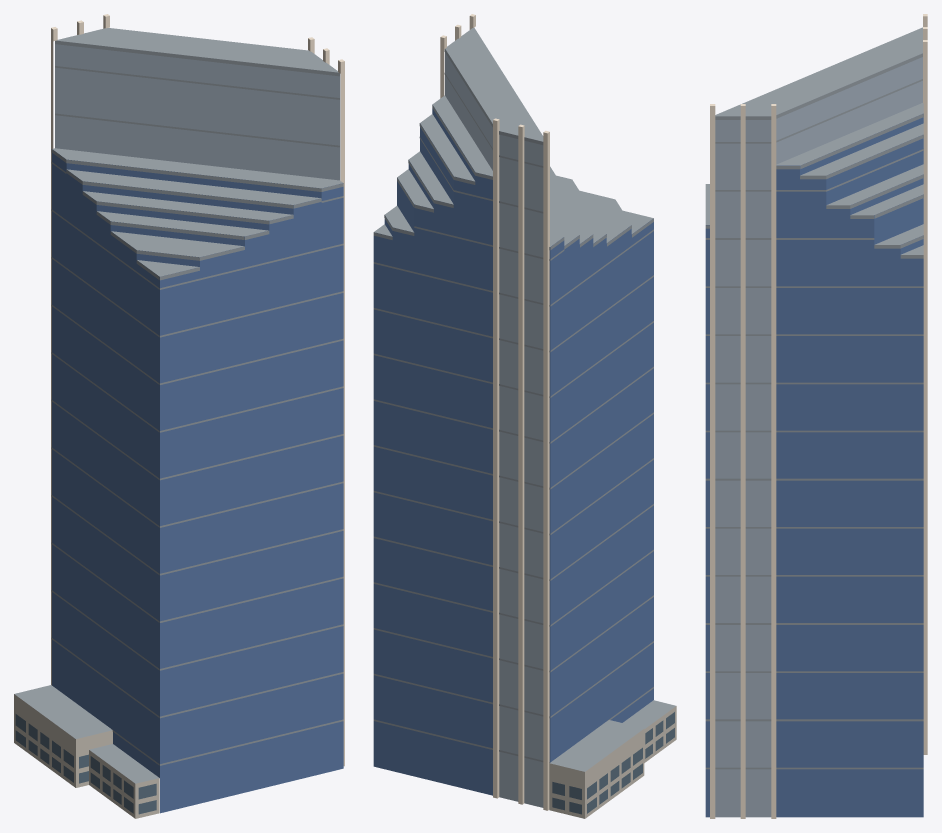
File: msp-campbell-mithun-tower.glb
The picture shows the model from 3 angles, left to right: view 1: azimuth 30°, elevation 25°; view 2: azimuth 150°, elevation 25°; view 3: azimuth 270°, elevation 25°; orthographic projection. The views are drawn at different scales.
Parts seen in each view (by area): view 1: Two22 (Campbell Mithun Tower); view 2: Two22 (Campbell Mithun Tower); view 3: Two22 (Campbell Mithun Tower).
Part boxes in pixels (x1,y1,x2,y2): Two22 (Campbell Mithun Tower): [14, 14, 344, 818]; Two22 (Campbell Mithun Tower): [373, 14, 676, 818]; Two22 (Campbell Mithun Tower): [705, 14, 927, 818].
Bounding box in the file's own units: 59.95 × 180 × 50.86.
